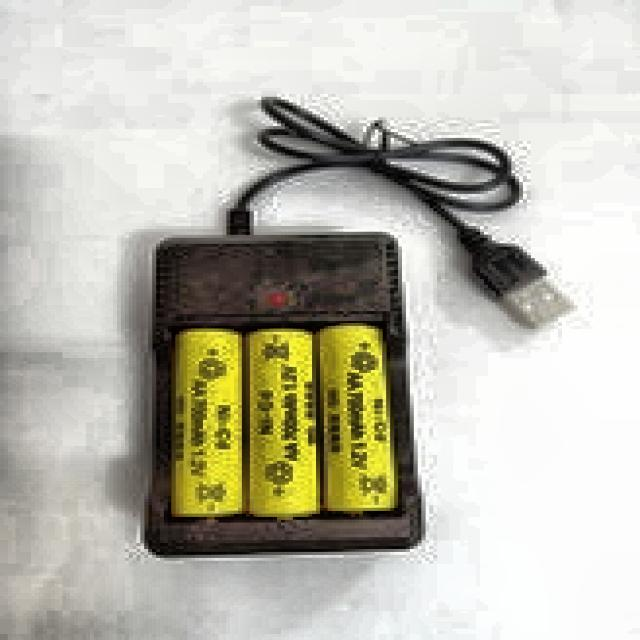Non-Valuable Waste - Batteries: (319, 325, 396, 510), (171, 328, 245, 516), (248, 329, 320, 517)
